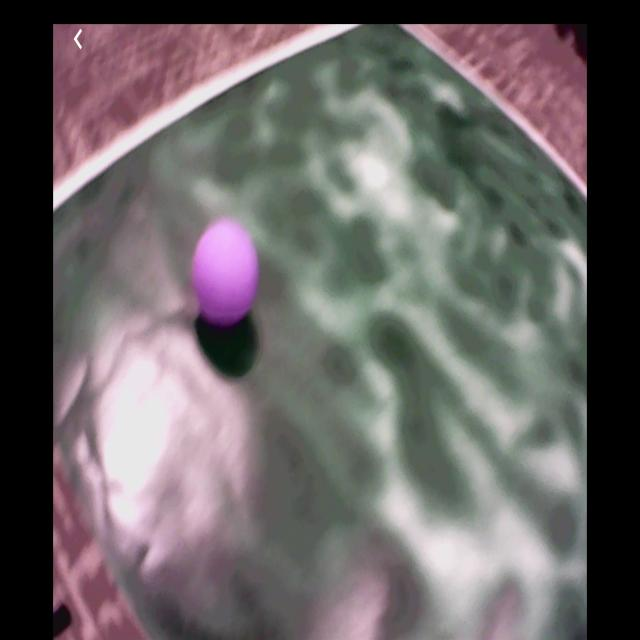ball: (192, 221, 261, 330)
